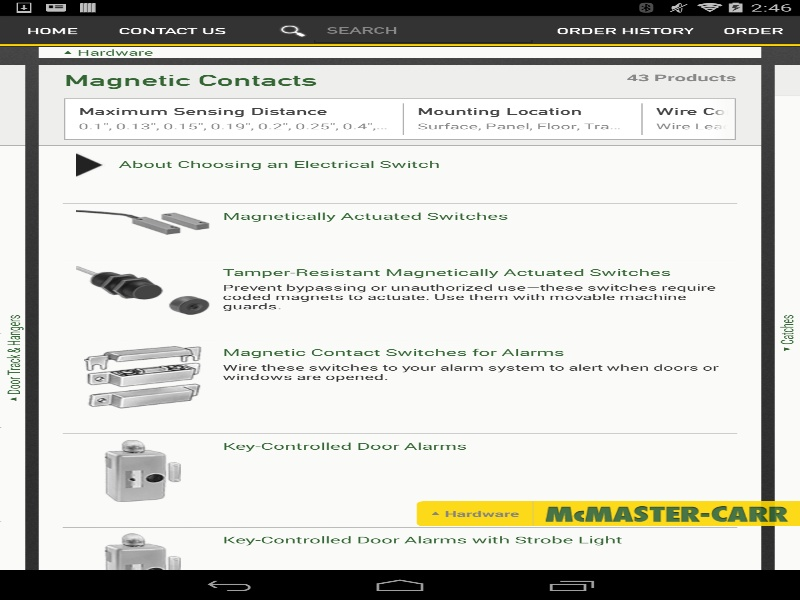Input: (316, 19, 530, 41)
